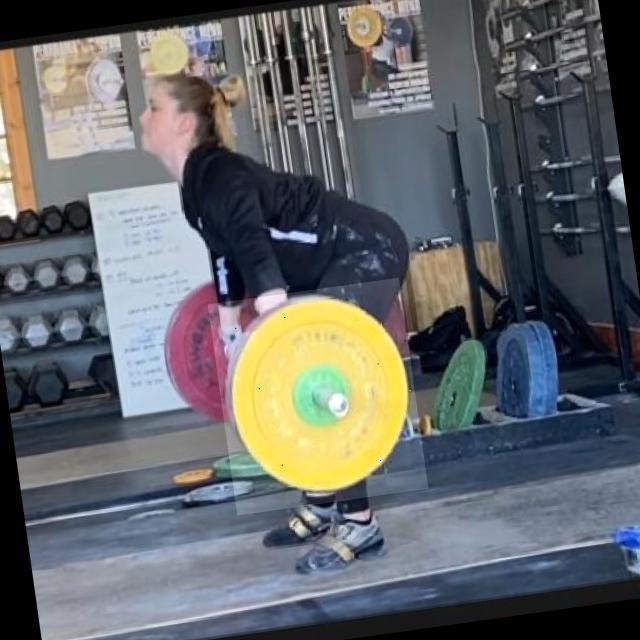barbell: (209, 279, 430, 517)
